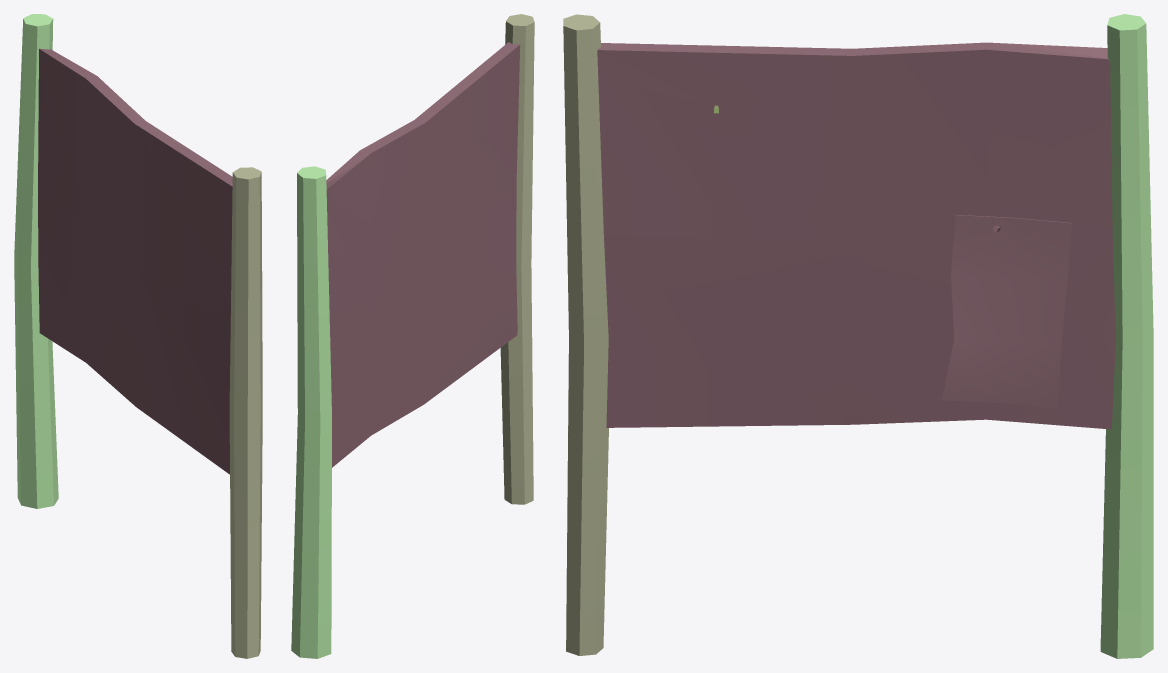
3 views of the same model, side by side, from view 1: azimuth 30°, elevation 25°; view 2: azimuth 150°, elevation 25°; view 3: azimuth 270°, elevation 25° (orthographic). The views are drawn at different scales.
Visible parts, largest first — view 1: split_parent_0, wanted table_0.006, wanted table_0.031; view 2: split_parent_0, wanted table_0.031, wanted table_0.006; view 3: split_parent_0, wanted table_0.031, wanted table_0.006.
Boxes of the visible parts, left/top/right/bottom form: split_parent_0: left=38, top=48, right=232, bottom=474; wanted table_0.006: left=229, top=167, right=262, bottom=658; wanted table_0.031: left=14, top=14, right=58, bottom=508; split_parent_0: left=326, top=42, right=520, bottom=467; wanted table_0.031: left=291, top=166, right=331, bottom=658; wanted table_0.006: left=500, top=14, right=534, bottom=504; split_parent_0: left=597, top=42, right=1115, bottom=429; wanted table_0.031: left=1100, top=14, right=1153, bottom=658; wanted table_0.006: left=563, top=14, right=608, bottom=655.
Bounding box in the file's own units: 0.0929 × 1 × 0.8551.
